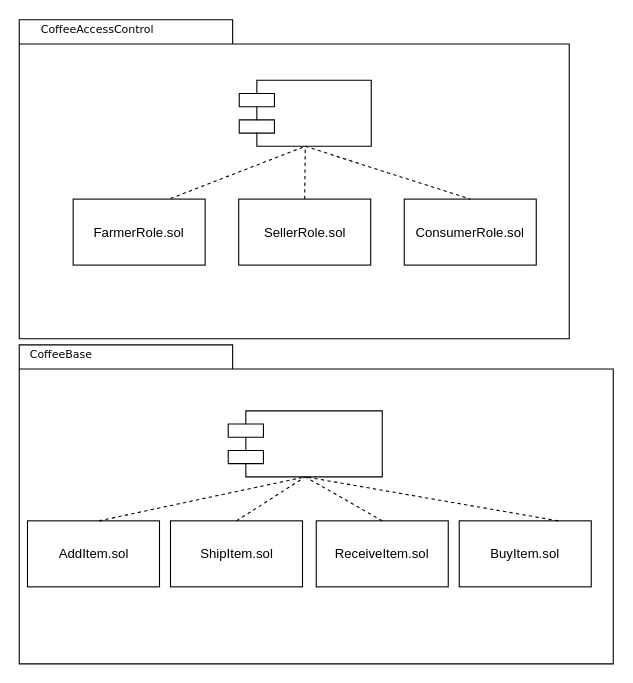
This 633x683 diagram has some shape labels left out. Here are the shapes that lost their labels. From the top down, the centre of each, then its label:
At [304,112]: "Roles.sol".
At [304,443]: "SupplyChain.sol".
